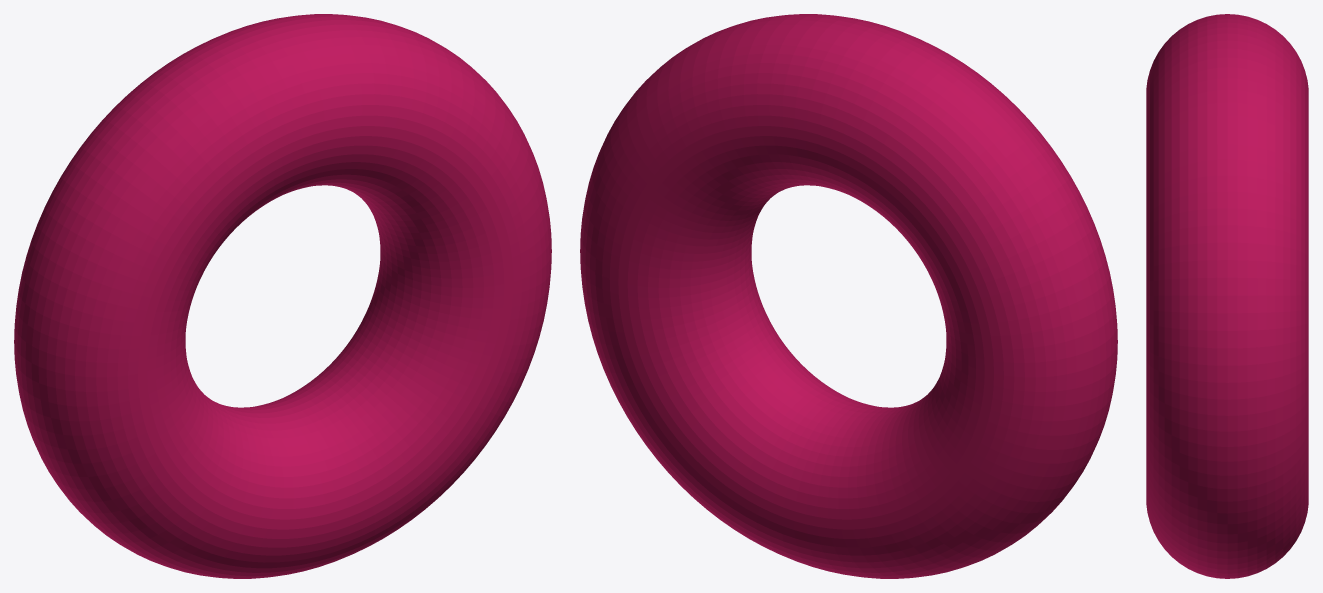
The picture shows the model from 3 angles, left to right: view 1: azimuth 30°, elevation 25°; view 2: azimuth 150°, elevation 25°; view 3: azimuth 270°, elevation 25°; orthographic projection. The views are drawn at different scales.
Parts seen in each view (by area): view 1: world; view 2: world; view 3: world.
Part boxes in pixels (left/top/right/bottom): world: left=14, top=14, right=551, bottom=578; world: left=580, top=14, right=1117, bottom=578; world: left=1146, top=14, right=1308, bottom=578.
Size of the model in its own units: 34.67 by 34.67 by 9.98.
